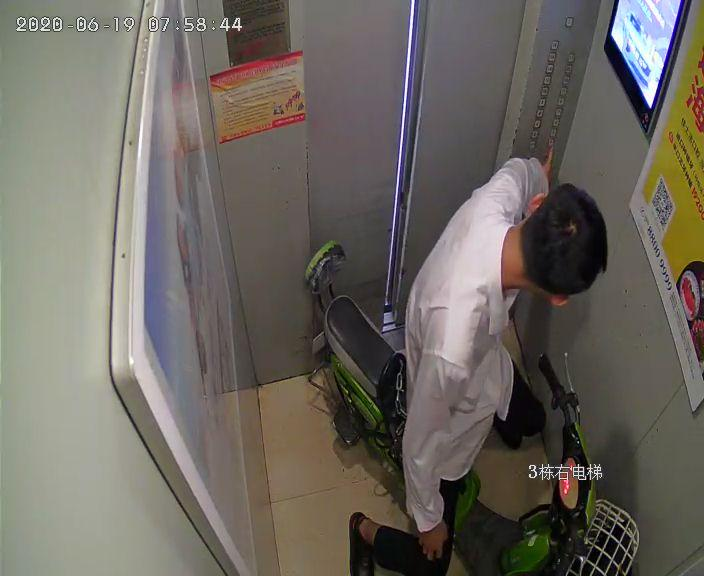Electric-bicycle: (298, 238, 631, 573)
